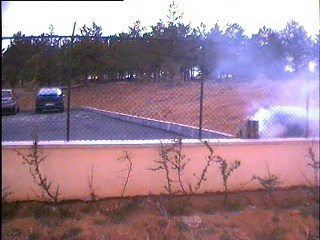smoke: (219, 27, 319, 136)
